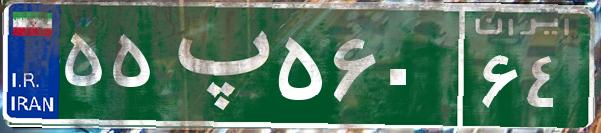0: (385, 28, 445, 110)
4: (525, 38, 570, 115)
5: (273, 28, 330, 110), (57, 26, 110, 107), (110, 28, 158, 105)
6: (330, 28, 385, 110), (475, 38, 525, 113)
پ: (158, 15, 273, 115)
